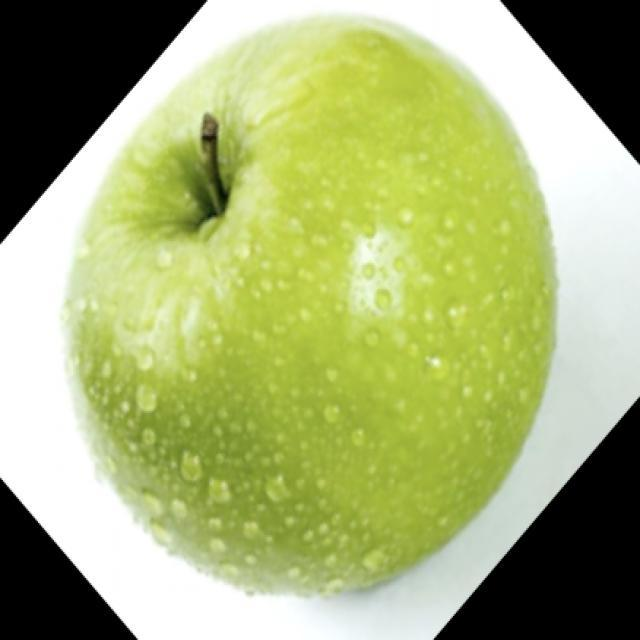Fresh Apple: (59, 13, 564, 605)
